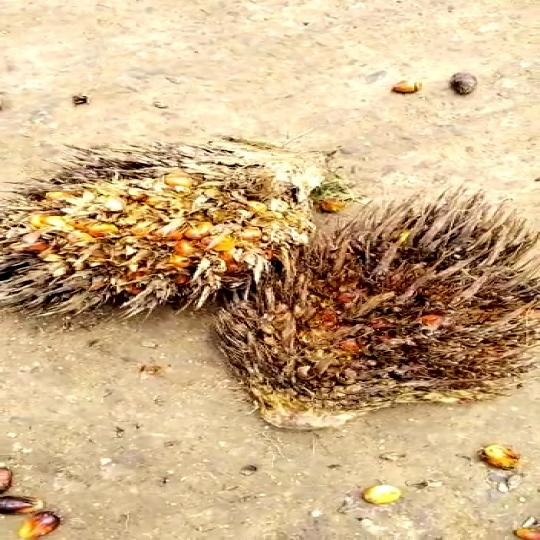terlalu masak: (203, 198, 537, 432), (0, 144, 314, 321)
